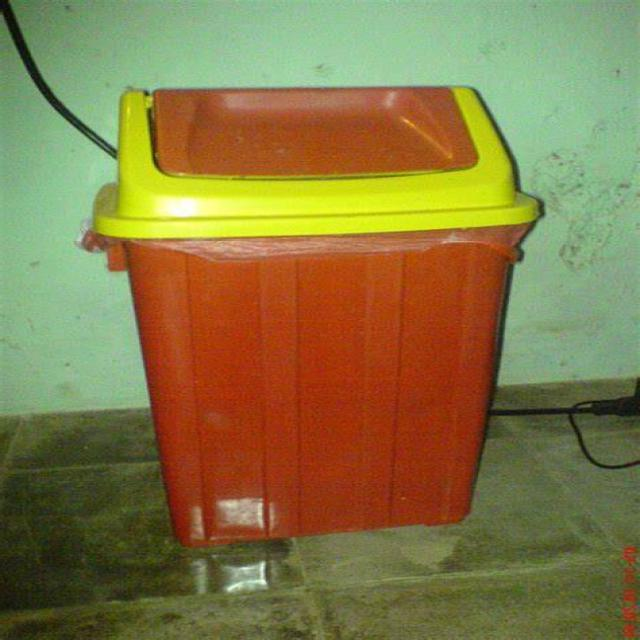garbage container: (82, 62, 520, 561)
